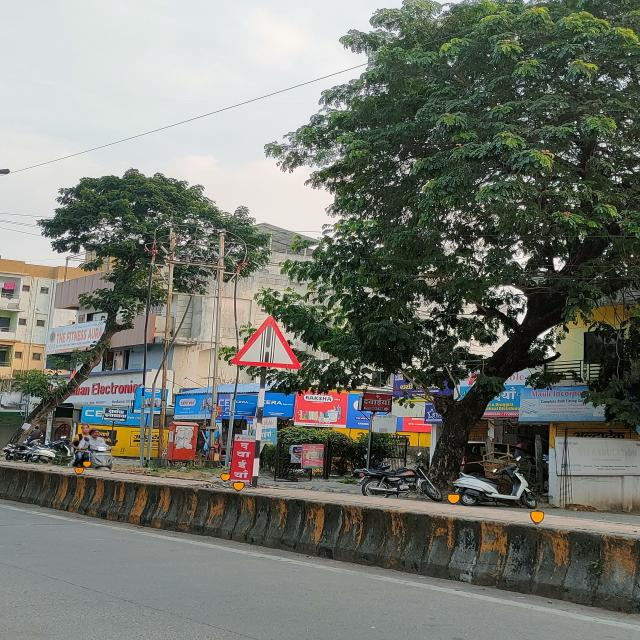GAP_IN_MEDIAN: (229, 315, 300, 369)
